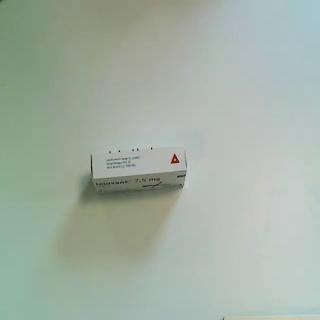imovane7-5mg: (90, 144, 189, 196)
